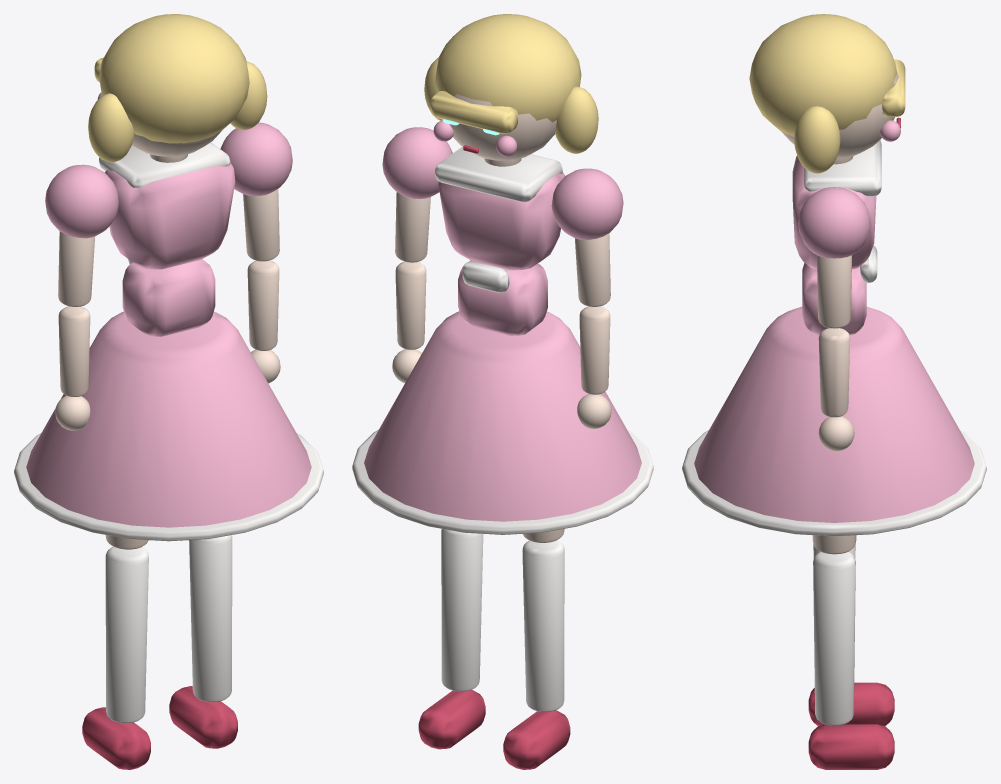
Rendered from doll.glb.
3 renders of one model, left to right at view 1: azimuth 30°, elevation 25°; view 2: azimuth 150°, elevation 25°; view 3: azimuth 270°, elevation 25°, orthographic. The views are drawn at different scales.
Visible parts, largest first — view 1: hips, head, chest, shin_l, shin_r, upper_arm_l, upper_arm_r, abdomen, foot_l, foot_r, lower_arm_l, lower_arm_r (+2 smaller); view 2: hips, head, chest, shin_l, shin_r, upper_arm_l, upper_arm_r, abdomen, foot_r, foot_l, lower_arm_l, lower_arm_r (+2 smaller); view 3: hips, head, shin_r, upper_arm_r, chest, foot_r, lower_arm_r, abdomen, foot_l, hand_r, thigh_r.
Boxes of the visible parts, bbox=[...] form: hips: bbox=[14, 311, 323, 541]; head: bbox=[88, 14, 267, 162]; chest: bbox=[99, 142, 235, 269]; shin_l: bbox=[105, 546, 148, 723]; shin_r: bbox=[189, 535, 232, 702]; upper_arm_l: bbox=[45, 164, 118, 306]; upper_arm_r: bbox=[220, 122, 292, 261]; abdomen: bbox=[122, 259, 215, 336]; foot_l: bbox=[82, 707, 150, 769]; foot_r: bbox=[169, 686, 237, 748]; lower_arm_l: bbox=[58, 306, 90, 396]; lower_arm_r: bbox=[247, 260, 279, 350]; hips: bbox=[352, 311, 653, 534]; head: bbox=[424, 14, 598, 160]; chest: bbox=[435, 146, 564, 270]; shin_l: bbox=[522, 540, 564, 711]; shin_r: bbox=[441, 529, 483, 691]; upper_arm_l: bbox=[551, 168, 623, 306]; upper_arm_r: bbox=[382, 127, 452, 262]; abdomen: bbox=[458, 260, 547, 335]; foot_r: bbox=[418, 690, 485, 749]; foot_l: bbox=[503, 710, 570, 769]; lower_arm_l: bbox=[579, 306, 610, 394]; lower_arm_r: bbox=[395, 261, 426, 349]; hips: bbox=[682, 306, 986, 536]; head: bbox=[749, 14, 905, 173]; shin_r: bbox=[813, 551, 855, 725]; upper_arm_r: bbox=[798, 187, 870, 328]; chest: bbox=[792, 140, 881, 269]; foot_r: bbox=[808, 724, 894, 769]; lower_arm_r: bbox=[818, 328, 850, 417]; abdomen: bbox=[802, 245, 877, 335]; foot_l: bbox=[808, 682, 894, 726]; hand_r: bbox=[818, 416, 854, 451]; thigh_r: bbox=[812, 535, 856, 554].
Bounding box in the file's own units: 0.71 × 1.86 × 0.71.
